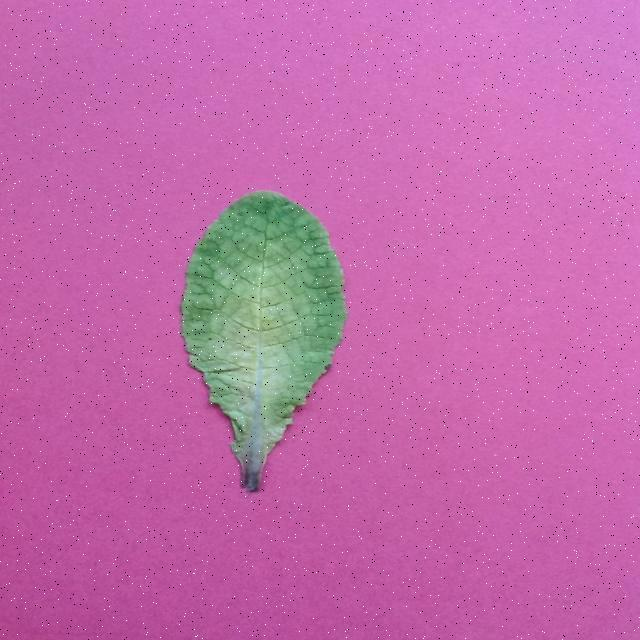foliage: (181, 190, 347, 490)
